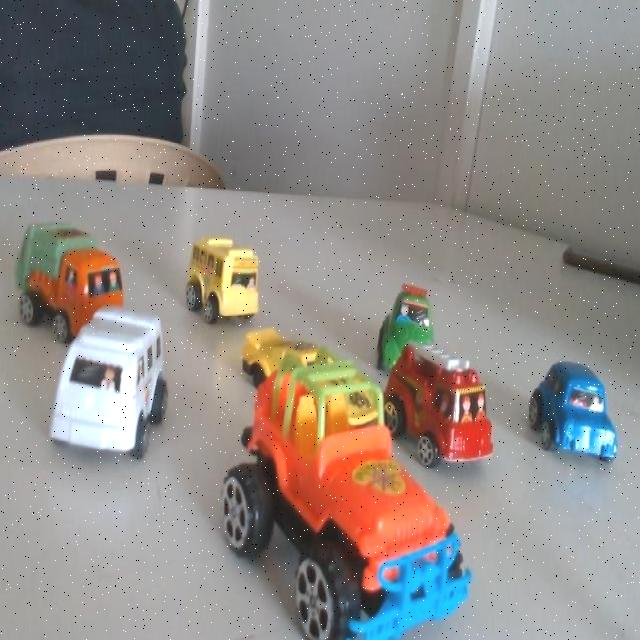car: (337, 469, 482, 640), (262, 328, 396, 457), (533, 354, 631, 482), (415, 347, 503, 481), (69, 326, 174, 438), (38, 219, 137, 337), (385, 286, 456, 382), (210, 232, 269, 316)
